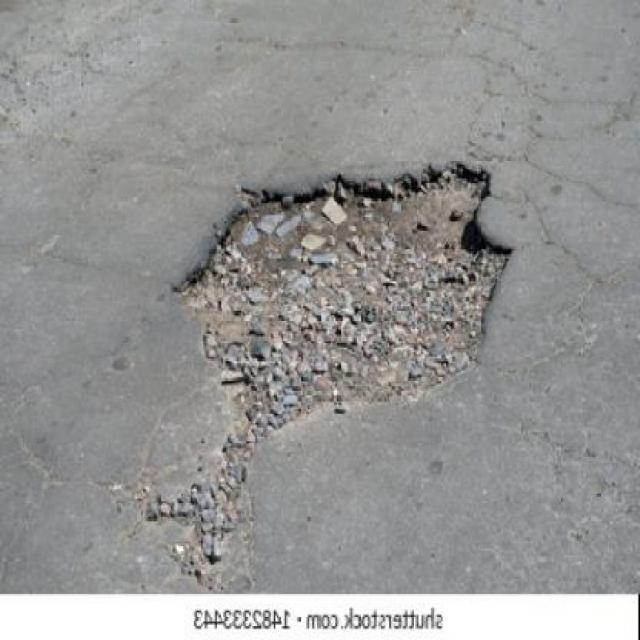Pothole: (145, 163, 517, 585)
